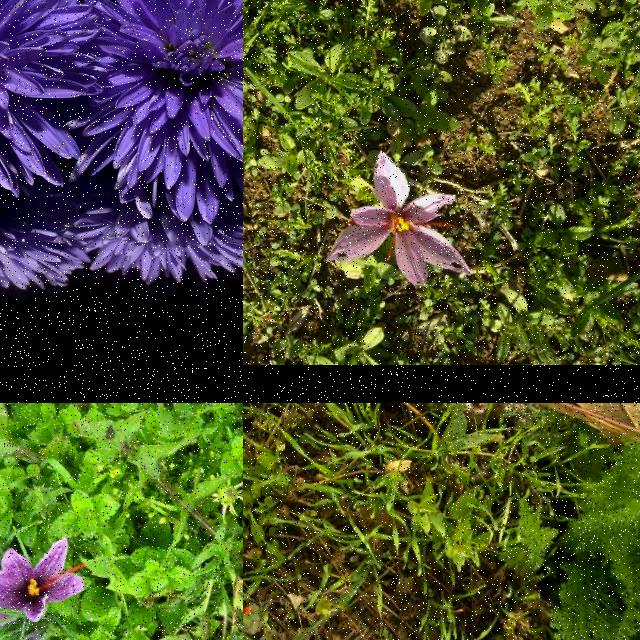flower: (326, 152, 472, 286), (0, 537, 86, 623)
